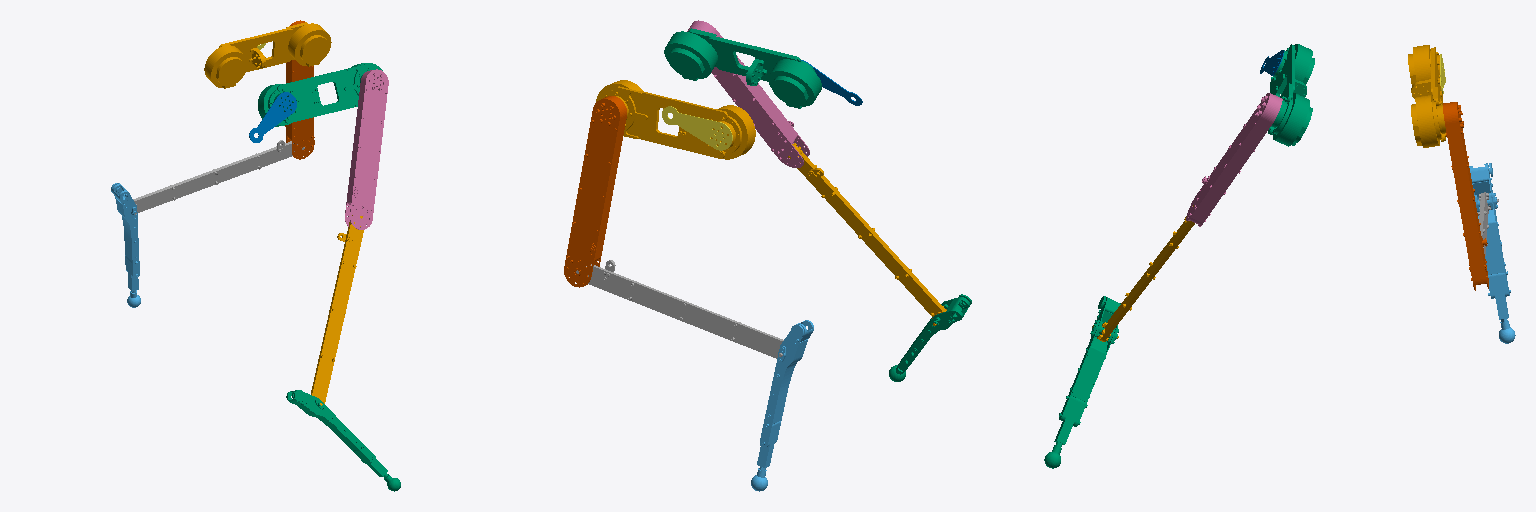
The robot description file, URDF, robot "AssemblyURDF":
<?xml version='1.0' encoding='utf-8'?>
<robot name="AssemblyURDF">
    <link name="HipLeft_Simplify_1-v1">
        <inertial>
            <origin xyz="0.002430875439299385 0.015830158511370894 -0.02315984809956487" rpy="-1.9446922743316068e-62 -0.0 0.0" />
            <mass value="1.0499767859753524" />
            <inertia ixx="0.015066922992476143" iyy="0.015455204666749482" izz="0.0010262953755166143" ixy="6.027946905291792e-05" iyz="0.00032333409667737465" ixz="5.347966860323478e-05" />
        </inertial>
        <visual name="HipLeft_Simplify_1-v1_visual">
            <origin xyz="-0.008839629070383524 -0.053271579731458435 -0.027250004298368317" rpy="-1.4063595111469243 1.5707963267948912 0" />
            <geometry>
                <mesh filename="meshes/HipLeft_Simplify_1-v1.stl" scale="0.001 0.001 0.001" />
            </geometry>
        </visual>
        <collision name="HipLeft_Simplify_1-v1_collision">
            <origin xyz="-0.008839629070383524 -0.053271579731458435 -0.027250004298368317" rpy="-1.4063595111469243 1.5707963267948912 0" />
            <geometry>
                <mesh filename="meshes/HipLeft_Simplify_1-v1.stl" scale="0.001 0.001 0.001" />
            </geometry>
        </collision>
    </link>
    <link name="body_Simplify_1-v1">
        <inertial>
            <origin xyz="0.0040641253574687 4.297697844963332e-07 0.09586973233623679" rpy="0.0 0.0 0.0" />
            <mass value="1.8141006934661061" />
            <inertia ixx="0.012823544827102348" iyy="0.00463653542938168" izz="0.01518613950567988" ixy="9.076516098857889e-08" iyz="5.980362426634806e-07" ixz="1.5044697059619159e-06" />
        </inertial>
        <visual name="body_Simplify_1-v1_visual">
            <origin xyz="0.0 0.0 0.0" rpy="0.0 0.0 0.0" />
            <geometry>
                <mesh filename="meshes/body_Simplify_1-v1.stl" scale="0.001 0.001 0.001" />
            </geometry>
        </visual>
        <collision name="body_Simplify_1-v1_collision">
            <origin xyz="0.0 0.0 0.0" rpy="0.0 0.0 0.0" />
            <geometry>
                <mesh filename="meshes/body_Simplify_1-v1.stl" scale="0.001 0.001 0.001" />
            </geometry>
        </collision>
    </link>
    <link name="HipRight_Simplify_1-v1">
        <inertial>
            <origin xyz="0.006971249280552989 0.014418905311425778 0.0231598480812199" rpy="-1.9446922743316068e-62 -0.0 0.0" />
            <mass value="1.0499767866948082" />
            <inertia ixx="0.015134224353288081" iyy="0.015387903306866568" izz="0.0010262953755978345" ixy="0.00015885850995375067" iyz="-0.00029338491813891304" ixz="-0.00014604897414140203" />
        </inertial>
        <visual name="HipRight_Simplify_1-v1_visual">
            <origin xyz="-3.5714430524080853e-09 1.7387512940558735e-09 0.001500004298368447" rpy="2.423344587305656e-15 -2.9926104925853775e-15 -0.462411619784345" />
            <geometry>
                <mesh filename="meshes/HipRight_Simplify_1-v1.stl" scale="0.001 0.001 0.001" />
            </geometry>
        </visual>
        <collision name="HipRight_Simplify_1-v1_collision">
            <origin xyz="-3.5714430524080853e-09 1.7387512940558735e-09 0.001500004298368447" rpy="2.423344587305656e-15 -2.9926104925853775e-15 -0.462411619784345" />
            <geometry>
                <mesh filename="meshes/HipRight_Simplify_1-v1.stl" scale="0.001 0.001 0.001" />
            </geometry>
        </collision>
    </link>
    <link name="CamLeft_Simplify_1-v1">
        <inertial>
            <origin xyz="-0.04232410033173656 0.0040353658908419375 -0.018210074685425612" rpy="0.0 -0.0 0.0" />
            <mass value="0.013438060017115849" />
            <inertia ixx="6.674788741604172e-06" iyy="3.074869467295017e-05" izz="2.4440108231849728e-05" ixy="1.5711203388011686e-06" iyz="1.076455662078681e-06" ixz="-9.468281104210816e-06" />
        </inertial>
        <visual name="CamLeft_Simplify_1-v1_visual">
            <origin xyz="-0.07000020006747866 0.12275106630274384 -0.08060781854903659" rpy="1.8517690140179275 -0.9393109578862427 -0.22886852653740505" />
            <geometry>
                <mesh filename="meshes/CamLeft_Simplify_1-v1.stl" scale="0.001 0.001 0.001" />
            </geometry>
        </visual>
        <collision name="CamLeft_Simplify_1-v1_collision">
            <origin xyz="-0.07000020006747866 0.12275106630274384 -0.08060781854903659" rpy="1.8517690140179275 -0.9393109578862427 -0.22886852653740505" />
            <geometry>
                <mesh filename="meshes/CamLeft_Simplify_1-v1.stl" scale="0.001 0.001 0.001" />
            </geometry>
        </collision>
    </link>
    <link name="CamRight_Simplify_1-v1">
        <inertial>
            <origin xyz="-0.03997556116865994 0.020354694693447896 -0.011263260813415563" rpy="0.0 -0.0 0.0" />
            <mass value="0.013438060017115889" />
            <inertia ixx="9.02810888601707e-06" iyy="2.3703086544543586e-05" izz="2.913239621583603e-05" ixy="1.012418087500494e-05" iyz="3.6009605125116827e-06" ixz="-5.046458367093878e-06" />
        </inertial>
        <visual name="CamRight_Simplify_1-v1_visual">
            <origin xyz="-0.07077603646504887 0.09177424084466008 -0.10597027478252351" rpy="1.1585336160070183 0.21572866196370669 0.455192379010402" />
            <geometry>
                <mesh filename="meshes/CamRight_Simplify_1-v1.stl" scale="0.001 0.001 0.001" />
            </geometry>
        </visual>
        <collision name="CamRight_Simplify_1-v1_collision">
            <origin xyz="-0.07077603646504887 0.09177424084466008 -0.10597027478252351" rpy="1.1585336160070183 0.21572866196370669 0.455192379010402" />
            <geometry>
                <mesh filename="meshes/CamRight_Simplify_1-v1.stl" scale="0.001 0.001 0.001" />
            </geometry>
        </collision>
    </link>
    <link name="ThighLeft_Simplify_1-v1">
        <inertial>
            <origin xyz="0.015125853737264895 0.03774785501372573 -0.13595696597523063" rpy="0.0 -0.0 0.0" />
            <mass value="0.36697101798212733" />
            <inertia ixx="0.005307652835282263" iyy="0.005381203049783497" izz="0.0004341317760709028" ixy="-9.555251414540208e-05" iyz="0.0008510421347229483" ixz="0.0005759542114073914" />
        </inertial>
        <visual name="ThighLeft_Simplify_1-v1_visual">
            <origin xyz="-0.12760290433931812 -0.09664342802196978 -0.029079500890704733" rpy="1.4055406923001283 0.09913660010628537 3.125087556756495" />
            <geometry>
                <mesh filename="meshes/ThighLeft_Simplify_1-v1.stl" scale="0.001 0.001 0.001" />
            </geometry>
        </visual>
        <collision name="ThighLeft_Simplify_1-v1_collision">
            <origin xyz="-0.12760290433931812 -0.09664342802196978 -0.029079500890704733" rpy="1.4055406923001283 0.09913660010628537 3.125087556756495" />
            <geometry>
                <mesh filename="meshes/ThighLeft_Simplify_1-v1.stl" scale="0.001 0.001 0.001" />
            </geometry>
        </collision>
    </link>
    <link name="ThighRight_Simplify_1-v1">
        <inertial>
            <origin xyz="-0.05194148983547169 0.11120068060870912 -0.0722215237300388" rpy="0.0 -0.0 0.0" />
            <mass value="0.36647662097327227" />
            <inertia ixx="0.004702881867484543" iyy="0.0018188739509505635" izz="0.004593965213565118" ixy="0.0015472528729163699" iyz="0.001851238311545153" ixz="-0.0007747769554721816" />
        </inertial>
        <visual name="ThighRight_Simplify_1-v1_visual">
            <origin xyz="-0.09510362432514519 -0.01364968653706292 0.058313346647339996" rpy="-1.3869819236314236 0.42675249768504486 1.992947771712338" />
            <geometry>
                <mesh filename="meshes/ThighRight_Simplify_1-v1.stl" scale="0.001 0.001 0.001" />
            </geometry>
        </visual>
        <collision name="ThighRight_Simplify_1-v1_collision">
            <origin xyz="-0.09510362432514519 -0.01364968653706292 0.058313346647339996" rpy="-1.3869819236314236 0.42675249768504486 1.992947771712338" />
            <geometry>
                <mesh filename="meshes/ThighRight_Simplify_1-v1.stl" scale="0.001 0.001 0.001" />
            </geometry>
        </collision>
    </link>
    <link name="LegLeft_Simplify_1-v1">
        <inertial>
            <origin xyz="-0.24307694612902198 -0.0047893653925042655 -0.033307538373658636" rpy="0.0 -0.0 0.0" />
            <mass value="0.22211717393859887" />
            <inertia ixx="0.00013870967239463725" iyy="0.005693116313956689" izz="0.005568613093036284" ixy="0.00012843429288916084" iyz="2.2479063199281247e-05" ixz="-0.0007456830885026912" />
        </inertial>
        <visual name="LegLeft_Simplify_1-v1_visual">
            <origin xyz="-0.17349991679862728 -0.17741898684117602 0.3049891069250129" rpy="1.4049229686709541 0.13110480765614374 3.1197105082311367" />
            <geometry>
                <mesh filename="meshes/LegLeft_Simplify_1-v1.stl" scale="0.001 0.001 0.001" />
            </geometry>
        </visual>
        <collision name="LegLeft_Simplify_1-v1_collision">
            <origin xyz="-0.17349991679862728 -0.17741898684117602 0.3049891069250129" rpy="1.4049229686709541 0.13110480765614374 3.1197105082311367" />
            <geometry>
                <mesh filename="meshes/LegLeft_Simplify_1-v1.stl" scale="0.001 0.001 0.001" />
            </geometry>
        </collision>
    </link>
    <link name="LegRight_Simplify_1-v1">
        <inertial>
            <origin xyz="-0.23510936427808612 -0.057752469496086416 0.0399121034122038" rpy="0.0 -0.0 0.0" />
            <mass value="0.22209930220339597" />
            <inertia ixx="0.000502471223943278" iyy="0.005300109263589125" izz="0.005595715764537693" ixy="-0.0013883907312931747" iyz="0.0001992192380266212" ixz="0.0006970205083789599" />
        </inertial>
        <visual name="LegRight_Simplify_1-v1_visual">
            <origin xyz="-0.19803112556878016 0.25129254811531626 -0.18235456655603421" rpy="1.4296315978610816 -0.44182867407004334 -1.2499324362154478" />
            <geometry>
                <mesh filename="meshes/LegRight_Simplify_1-v1.stl" scale="0.001 0.001 0.001" />
            </geometry>
        </visual>
        <collision name="LegRight_Simplify_1-v1_collision">
            <origin xyz="-0.19803112556878016 0.25129254811531626 -0.18235456655603421" rpy="1.4296315978610816 -0.44182867407004334 -1.2499324362154478" />
            <geometry>
                <mesh filename="meshes/LegRight_Simplify_1-v1.stl" scale="0.001 0.001 0.001" />
            </geometry>
        </collision>
    </link>
    <link name="FootLeft_Simplify_1-v1">
        <inertial>
            <origin xyz="0.009086115379282163 -0.022095420547406413 0.10214205297687155" rpy="0.0 -0.0 0.0" />
            <mass value="0.2593184686603186" />
            <inertia ixx="0.002881980289029723" iyy="0.0029005083163754506" izz="0.00023069301405083284" ixy="8.545387506598687e-05" iyz="0.0004397873498530226" ixz="-0.0005382742861742654" />
        </inertial>
        <visual name="FootLeft_Simplify_1-v1_visual">
            <origin xyz="0.3220904432013748 0.1737635939663749 -0.37276022209367027" rpy="-1.736669684918839 -0.13110480765614357 -3.1197105082311367" />
            <geometry>
                <mesh filename="meshes/FootLeft_Simplify_1-v1.stl" scale="0.001 0.001 0.001" />
            </geometry>
        </visual>
        <collision name="FootLeft_Simplify_1-v1_collision">
            <origin xyz="0.3220904432013748 0.1737635939663749 -0.37276022209367027" rpy="-1.736669684918839 -0.13110480765614357 -3.1197105082311367" />
            <geometry>
                <mesh filename="meshes/FootLeft_Simplify_1-v1.stl" scale="0.001 0.001 0.001" />
            </geometry>
        </collision>
    </link>
    <link name="FootRight_Simplify_1-v1">
        <inertial>
            <origin xyz="-0.024145181902316466 -0.09303579164209015 0.04144562508875609" rpy="0.0 -0.0 0.0" />
            <mass value="0.2595337393545114" />
            <inertia ixx="0.002944058237075232" iyy="0.0006627685755764012" izz="0.002415326067637556" ixy="-0.0003322805320986194" iyz="0.001138239147809695" ixz="0.000164604025052722" />
        </inertial>
        <visual name="FootRight_Simplify_1-v1_visual">
            <origin xyz="0.45525606210642766 0.2128668690039887 -0.17962601594275657" rpy="1.6625127111762104 -0.4538707150857134 -1.7775709791511993" />
            <geometry>
                <mesh filename="meshes/FootRight_Simplify_1-v1.stl" scale="0.001 0.001 0.001" />
            </geometry>
        </visual>
        <collision name="FootRight_Simplify_1-v1_collision">
            <origin xyz="0.45525606210642766 0.2128668690039887 -0.17962601594275657" rpy="1.6625127111762104 -0.4538707150857134 -1.7775709791511993" />
            <geometry>
                <mesh filename="meshes/FootRight_Simplify_1-v1.stl" scale="0.001 0.001 0.001" />
            </geometry>
        </collision>
    </link>
    <joint name="body_Simplify_1-v1_Révolution-2" type="revolute">
        <origin xyz="-0.027205079698007388 0.12800000174736278 0.0958602409192762" rpy="1.14491749414477e-16 -1.570796326794884 0" />
        <parent link="body_Simplify_1-v1" />
        <child link="HipLeft_Simplify_1-v1" />
        <axis xyz="1.5777218104420236e-30 -2.429851479937809e-32 1.0" />
        <limit lower="-0.785398" upper="0.785398" effort="1000000" velocity="1000000" />
    </joint>
    <joint name="body_Simplify_1-v1_Révolution-4" type="revolute">
        <origin xyz="-0.02720507969800746 -0.12799999825263375 0.09586024091927615" rpy="-3.141592653589793 -1.570796326794884 0" />
        <parent link="body_Simplify_1-v1" />
        <child link="HipRight_Simplify_1-v1" />
        <axis xyz="-1.5777218104420236e-30 2.2822610097294775e-17 1.0" />
        <limit lower="-0.785398" upper="0.785398" effort="1000000" velocity="1000000" />
    </joint>
    <joint name="HipLeft_Simplify_1-v1_Révolution-6" type="revolute">
        <origin xyz="0.007546420000000005 0.04547813999999999 0.10100000000000002" rpy="1.937771097813699e-62 1.5707963267948966 0" />
        <parent link="HipLeft_Simplify_1-v1" />
        <child link="CamLeft_Simplify_1-v1" />
        <axis xyz="1.6141770450245497e-32 0.986511 0.163697" />
        <limit lower="0.523599" upper="6.283185" effort="1000000" velocity="1000000" />
    </joint>
    <joint name="HipRight_Simplify_1-v1_Révolution-7" type="revolute">
        <origin xyz="0.020565559999999792 0.04125855 -0.10100000000000002" rpy="1.5707963267948966 -1.5707963267948946 0" />
        <parent link="HipRight_Simplify_1-v1" />
        <child link="CamRight_Simplify_1-v1" />
        <axis xyz="0.0 -0.446108 -0.8949789999999999" />
        <limit lower="-0.785398" upper="3.926991" effort="1000000" velocity="1000000" />
    </joint>
    <joint name="HipLeft_Simplify_1-v1_Révolution-8" type="revolute">
        <origin xyz="0.008495860000000022 0.05119990000000001 -0.149" rpy="1.937771097813699e-62 1.5707963267948966 0" />
        <parent link="HipLeft_Simplify_1-v1" />
        <child link="ThighLeft_Simplify_1-v1" />
        <axis xyz="1.6141770450245497e-32 0.986511 0.163697" />
        <limit lower="-1.570796" upper="1.047198" effort="1000000" velocity="1000000" />
    </joint>
    <joint name="HipRight_Simplify_1-v1_Révolution-9" type="revolute">
        <origin xyz="0.023152990000000314 0.04644943 0.149" rpy="1.5707963267948966 -1.5707963267948946 0" />
        <parent link="HipRight_Simplify_1-v1" />
        <child link="ThighRight_Simplify_1-v1" />
        <axis xyz="0.0 -0.446108 -0.8949789999999999" />
        <limit lower="-1.047198" upper="1.570796" effort="1000000" velocity="1000000" />
    </joint>
    <joint name="ThighLeft_Simplify_1-v1_Révolution-10" type="revolute">
        <origin xyz="0.03511468000000001 0.08166756 -0.3394442100000001" rpy="1.4354430483320011e-15 9.860761315262648e-32 0.0" />
        <parent link="ThighLeft_Simplify_1-v1" />
        <child link="LegLeft_Simplify_1-v1" />
        <axis xyz="0.0 0.9865110000000002 0.1636969999999986" />
        <limit lower="-1.570796" upper="0.0" effort="1000000" velocity="1000000" />
    </joint>
    <joint name="ThighRight_Simplify_1-v1_Révolution-11" type="revolute">
        <origin xyz="-0.13054221 0.28840868999999997 -0.14934575000000003" rpy="-3.141592653589793 -0.0 0.0" />
        <parent link="ThighRight_Simplify_1-v1" />
        <child link="LegRight_Simplify_1-v1" />
        <axis xyz="0.0 -0.4461080000000002 -0.8949789999999999" />
        <limit lower="4.712389" upper="6.283185" effort="1000000" velocity="1000000" />
    </joint>
    <joint name="LegLeft_Simplify_1-v1_Révolution-12" type="revolute">
        <origin xyz="-0.49559035999999995 -0.005233810000000112 -0.06803302999999998" rpy="3.141592653589793 3.9841548069907726e-32 2.7755575615628914e-17" />
        <parent link="LegLeft_Simplify_1-v1" />
        <child link="FootLeft_Simplify_1-v1" />
        <axis xyz="-2.7381180656149696e-17 0.9865110000000002 0.1636969999999987" />
        <limit lower="-0.523599" upper="0.523599" effort="1000000" velocity="1000000" />
    </joint>
    <joint name="LegRight_Simplify_1-v1_Révolution-13" type="revolute">
        <origin xyz="-0.4792488499999999 -0.12030787999999999 0.07818089000000007" rpy="1.6795226105617523e-16 -5.551115123125784e-17 1.7533692007676969e-32" />
        <parent link="LegRight_Simplify_1-v1" />
        <child link="FootRight_Simplify_1-v1" />
        <axis xyz="-4.96813146177999e-17 -0.44610800000000045 -0.8949789999999995" />
        <limit lower="-0.523599" upper="0.523599" effort="1000000" velocity="1000000" />
    </joint>
</robot>

--- What the picture shows (computed from the rendered views, not written in the file) ---
Views: 3 orthographic renders of the robot side by side, from view 1: azimuth 30°, elevation 25°; view 2: azimuth 150°, elevation 25°; view 3: azimuth 270°, elevation 25°.
Robot: AssemblyURDF — 11 links, 10 joints (10 revolute); root link body_Simplify_1-v1; default pose: joints at zero except 2 at the middle of their limits (HipLeft_Simplify_1-v1_Révolution-6 = 3.4, ThighRight_Simplify_1-v1_Révolution-11 = 5.5).
Links seen in each view (by area): view 1: HipLeft_Simplify_1-v1, ThighRight_Simplify_1-v1, HipRight_Simplify_1-v1, LegRight_Simplify_1-v1, LegLeft_Simplify_1-v1, FootRight_Simplify_1-v1, FootLeft_Simplify_1-v1, ThighLeft_Simplify_1-v1, CamRight_Simplify_1-v1; view 2: ThighLeft_Simplify_1-v1, HipRight_Simplify_1-v1, HipLeft_Simplify_1-v1, LegLeft_Simplify_1-v1, ThighRight_Simplify_1-v1, LegRight_Simplify_1-v1, FootLeft_Simplify_1-v1, FootRight_Simplify_1-v1, CamLeft_Simplify_1-v1; view 3: ThighRight_Simplify_1-v1, HipRight_Simplify_1-v1, ThighLeft_Simplify_1-v1, FootRight_Simplify_1-v1, HipLeft_Simplify_1-v1, FootLeft_Simplify_1-v1, LegRight_Simplify_1-v1.
Link boxes in pixels (bbox=[...]): HipLeft_Simplify_1-v1: bbox=[204, 22, 331, 88]; ThighRight_Simplify_1-v1: bbox=[345, 69, 388, 229]; HipRight_Simplify_1-v1: bbox=[258, 63, 382, 126]; LegRight_Simplify_1-v1: bbox=[311, 215, 363, 405]; LegLeft_Simplify_1-v1: bbox=[133, 140, 304, 214]; FootRight_Simplify_1-v1: bbox=[286, 390, 400, 491]; FootLeft_Simplify_1-v1: bbox=[111, 183, 140, 307]; ThighLeft_Simplify_1-v1: bbox=[285, 20, 314, 159]; CamRight_Simplify_1-v1: bbox=[249, 92, 296, 142]; ThighLeft_Simplify_1-v1: bbox=[564, 96, 626, 287]; HipRight_Simplify_1-v1: bbox=[664, 28, 821, 108]; HipLeft_Simplify_1-v1: bbox=[596, 80, 755, 159]; LegLeft_Simplify_1-v1: bbox=[576, 260, 783, 358]; ThighRight_Simplify_1-v1: bbox=[687, 20, 809, 167]; LegRight_Simplify_1-v1: bbox=[788, 143, 946, 325]; FootLeft_Simplify_1-v1: bbox=[751, 320, 813, 491]; FootRight_Simplify_1-v1: bbox=[889, 294, 971, 381]; CamLeft_Simplify_1-v1: bbox=[662, 106, 732, 150]; ThighRight_Simplify_1-v1: bbox=[1186, 93, 1282, 226]; HipRight_Simplify_1-v1: bbox=[1268, 44, 1314, 146]; ThighLeft_Simplify_1-v1: bbox=[1443, 102, 1488, 290]; FootRight_Simplify_1-v1: bbox=[1044, 296, 1120, 468]; HipLeft_Simplify_1-v1: bbox=[1408, 45, 1445, 147]; FootLeft_Simplify_1-v1: bbox=[1469, 163, 1515, 343]; LegRight_Simplify_1-v1: bbox=[1092, 205, 1194, 341].
Bounding box of the posed robot: 0.5753 × 0.9819 × 0.954 m (x, y, z).
Meshes: 11 distinct files referenced, 10 mesh visuals loaded (10 binary STL); not drawn: 1 (reference not matched to a file when rendering).
